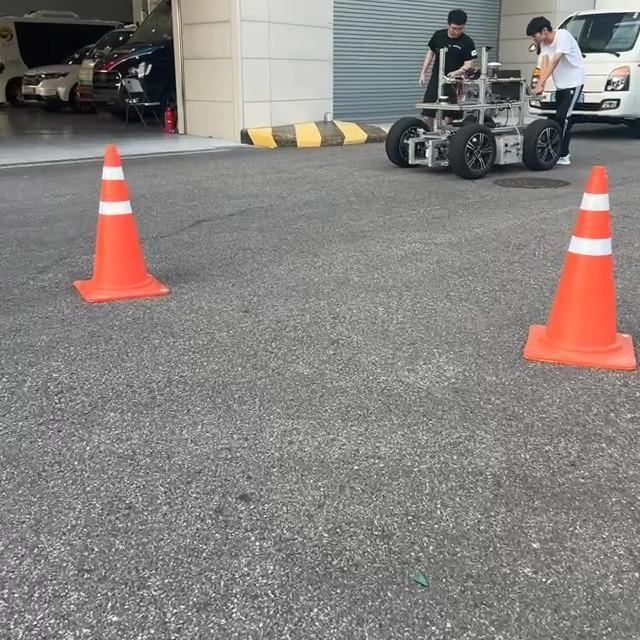fallen_object: (494, 161, 640, 467), (26, 137, 224, 325)
